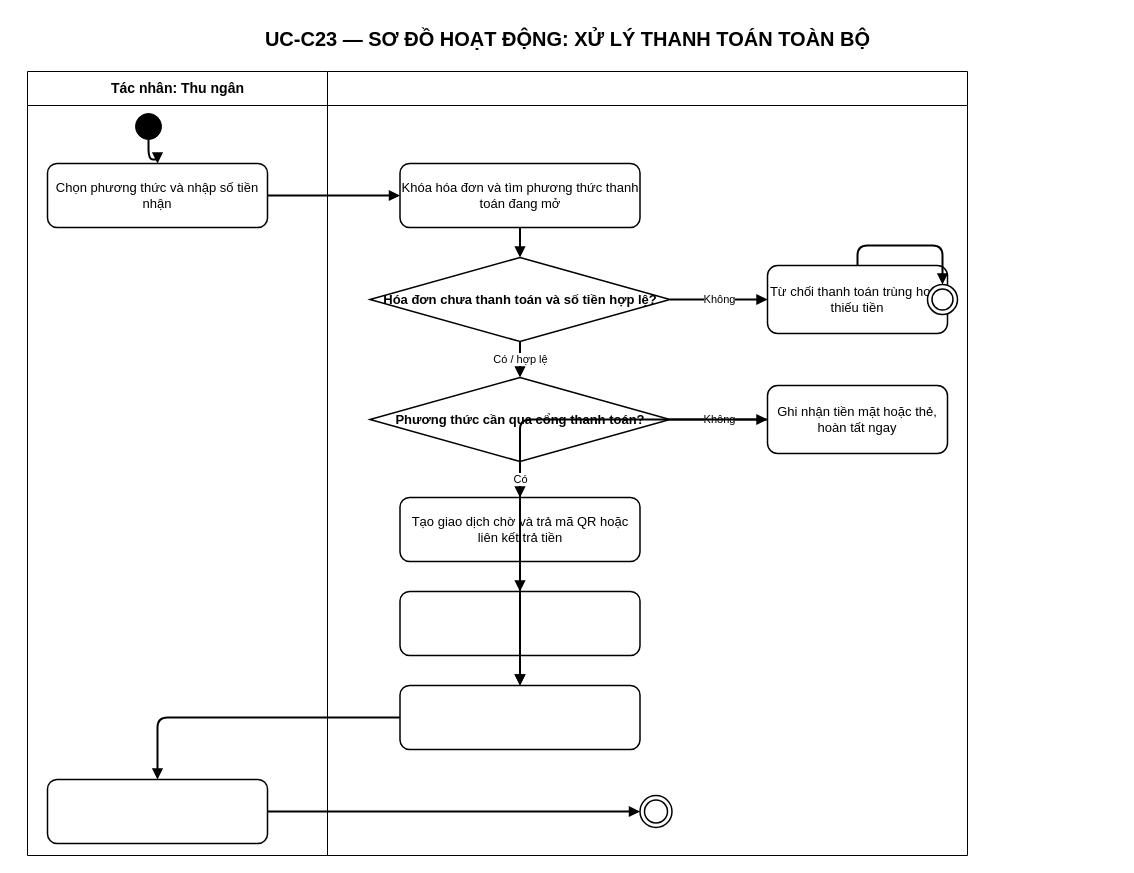
Some shapes in this 1134 by 873 pixel diagram are drawn without their labels. The box of each missing label's shape, as (x1, y1, x2, y2) in pixels:
Hệ thống: (326, 70, 968, 856)
Khi đủ tiền: chốt hóa đơn, tính tiền thừa và đóng phiên: (399, 684, 640, 750)
Nhận kết quả thanh toán và hóa đơn mới: (46, 778, 268, 844)
Nhận kết quả từ cổng thanh toán, chống ghi nhận trùng: (399, 590, 640, 656)
